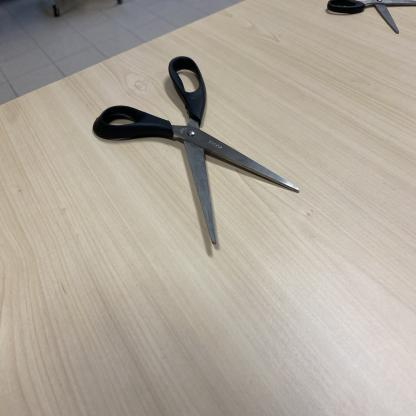scissors: (93, 51, 305, 252), (324, 0, 416, 36)
